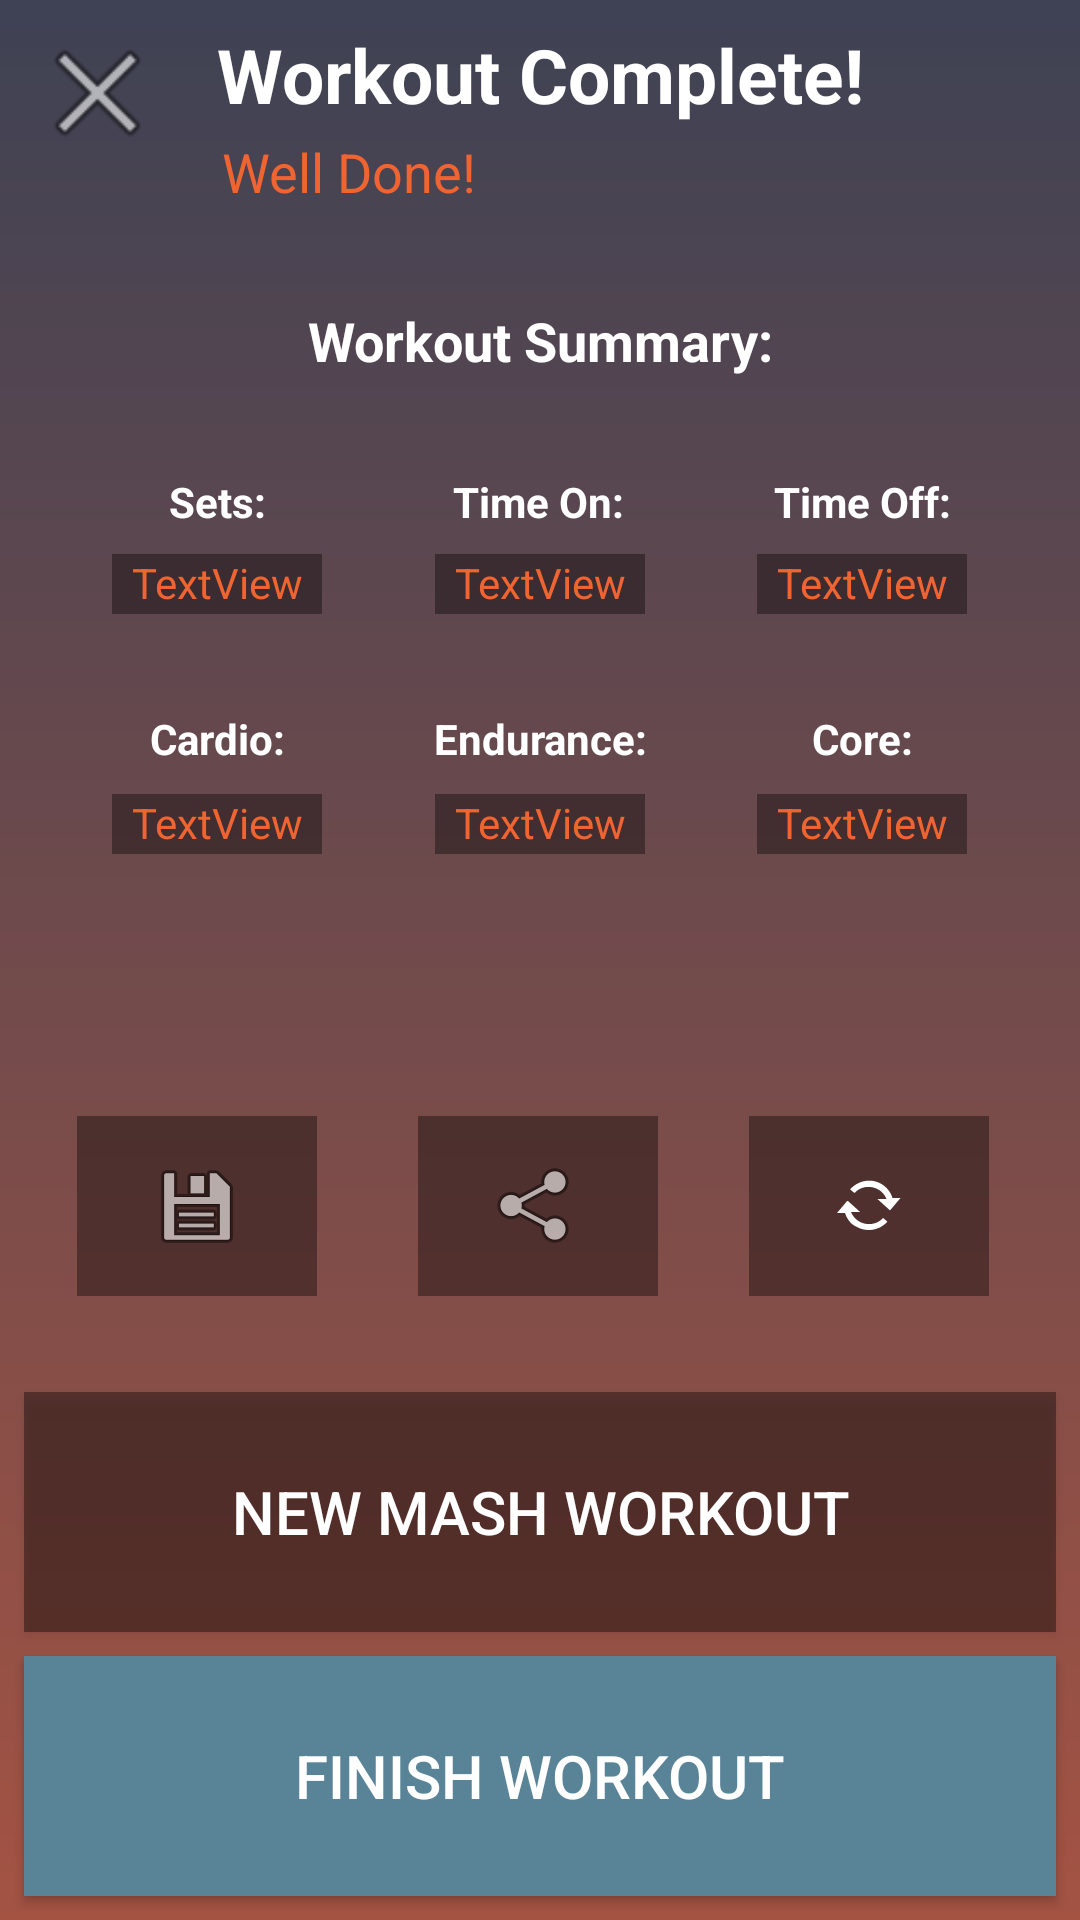

Locate icon controls on the screen. Image size 1080 × 1920, boxes as (x1, y1, x2, y2).
close clear cancel: (56, 52, 139, 135)
save: (77, 1116, 317, 1296)
share: (418, 1116, 658, 1296)
sync noanim: (749, 1116, 989, 1296)
